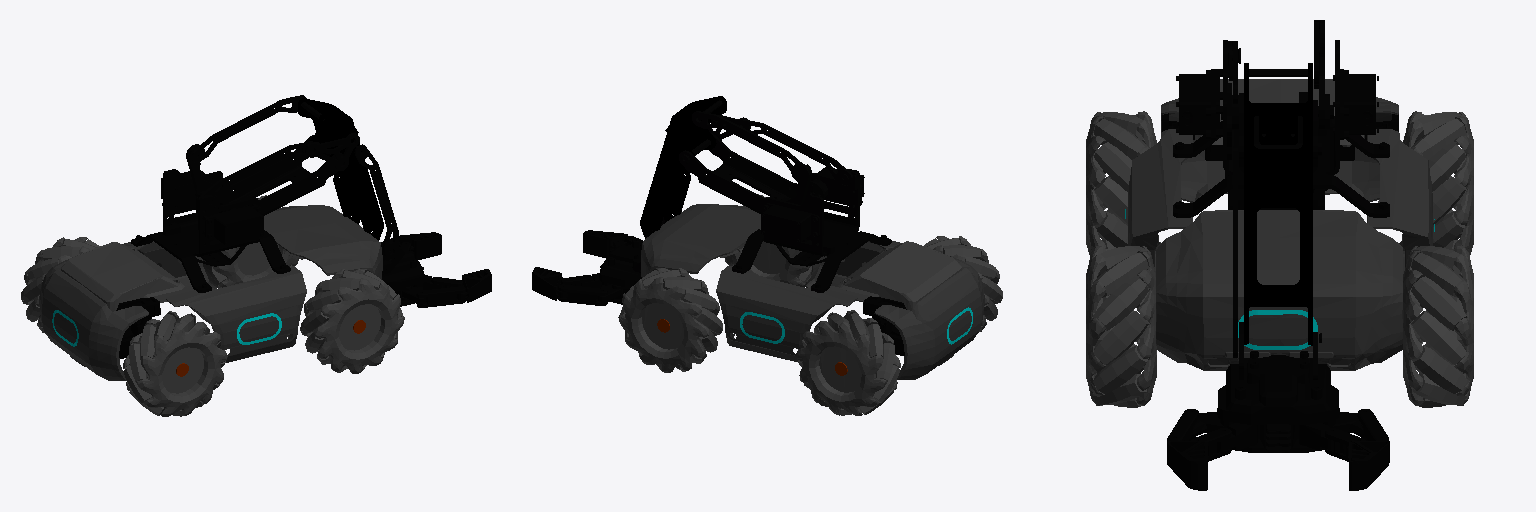
--- What the picture shows (computed from the rendered views, not written in the file) ---
Views: 3 orthographic renders of the robot side by side, from view 1: azimuth 30°, elevation 25°; view 2: azimuth 150°, elevation 25°; view 3: azimuth 270°, elevation 25°.
Robot: robomaster_ep — 39 links, 38 joints (2 revolute, 4 continuous, 32 fixed); root link base_link; default pose: every joint at zero.
Visible links, largest first — view 1: chassis_base_link, arm_base_link, rear_right_wheel_link, front_right_wheel_link, arm_2_link, arm_1_link, rear_left_wheel_link, front_left_wheel_link, rod_1_link, rod_3_link, rod_2_link, gripper_link (+5 smaller); view 2: chassis_base_link, rear_left_wheel_link, arm_base_link, front_left_wheel_link, arm_2_link, arm_1_link, rear_right_wheel_link, front_right_wheel_link, gripper_link, rod_2_link, rod_3_link, right_gripper_link_5 (+4 smaller); view 3: chassis_base_link, arm_2_link, arm_base_link, front_left_wheel_link, front_right_wheel_link, gripper_link, rear_right_wheel_link, rear_left_wheel_link, right_gripper_link_5, left_gripper_link_5, rod_1_link, arm_1_link (+9 smaller).
Link boxes in pixels (<box>): chassis_base_link: <box>39,205,382,380</box>; arm_base_link: <box>131,169,290,292</box>; rear_right_wheel_link: <box>123,311,227,416</box>; front_right_wheel_link: <box>300,269,404,373</box>; arm_2_link: <box>298,98,383,240</box>; arm_1_link: <box>207,135,343,215</box>; rear_left_wheel_link: <box>21,237,99,332</box>; front_left_wheel_link: <box>212,195,298,288</box>; rod_1_link: <box>354,144,398,258</box>; rod_3_link: <box>192,95,306,162</box>; rod_2_link: <box>200,141,314,200</box>; gripper_link: <box>382,241,424,306</box>; chassis_base_link: <box>641,204,984,379</box>; rear_left_wheel_link: <box>796,310,900,415</box>; arm_base_link: <box>732,167,891,292</box>; front_left_wheel_link: <box>618,268,722,372</box>; arm_2_link: <box>640,96,726,238</box>; arm_1_link: <box>679,133,827,213</box>; rear_right_wheel_link: <box>924,236,1002,331</box>; front_right_wheel_link: <box>725,194,811,287</box>; gripper_link: <box>599,239,641,304</box>; rod_2_link: <box>735,119,852,185</box>; rod_3_link: <box>692,111,801,170</box>; right_gripper_link_5: <box>583,230,629,258</box>; chassis_base_link: <box>1128,79,1432,370</box>; arm_2_link: <box>1244,63,1321,345</box>; arm_base_link: <box>1173,40,1389,217</box>; front_left_wheel_link: <box>1403,245,1473,407</box>; front_right_wheel_link: <box>1086,245,1156,407</box>; gripper_link: <box>1218,351,1338,452</box>; rear_right_wheel_link: <box>1086,111,1156,254</box>; rear_left_wheel_link: <box>1403,111,1473,254</box>; right_gripper_link_5: <box>1167,440,1207,490</box>; left_gripper_link_5: <box>1349,440,1389,490</box>; rod_1_link: <box>1233,146,1237,357</box>; arm_1_link: <box>1221,93,1317,172</box>.
Size in the robot's own frame: 0.4522 by 0.2451 by 0.2429 metres.
Meshes: 37 distinct files referenced, 45 mesh visuals loaded (36 Collada DAE); not drawn: 1 (reference not matched to a file when rendering).

URDF robot description (robomaster_ep):
<?xml version="1.0" ?>
<!-- =================================================================================== -->
<!-- |    This document was autogenerated by xacro from robomaster_ep.urdf.xacro       | -->
<!-- |    EDITING THIS FILE BY HAND IS NOT RECOMMENDED                                 | -->
<!-- =================================================================================== -->
<robot name="robomaster_ep" >
  <link name="base_link"/>
  <link name="chassis_base_link">
    <inertial>
      <origin rpy="0 0 0" xyz="-0.0058789 -0.0001128 0.0294307"/>
      <mass value="9.934"/>
      <inertia ixx="0.01451" ixy="0" ixz="0" iyy="0.00512" iyz="0" izz="0.01759"/>
    </inertial>
    <visual name="armor">
      <origin rpy="0 0 0" xyz="-0.0064553 -0.078141 0.0292877"/>
      <geometry>
        <mesh filename="../meshes/armor.dae" scale="1.0 1.0 1.0"/>
      </geometry>
      <material name="armor_plastic"/>
    </visual>
    <visual name="battery">
      <origin rpy="0 0 0" xyz="-0.130336 -0.0018702 0.0174177"/>
      <geometry>
        <mesh filename="../meshes/battery.dae" scale="1.0 1.0 1.0"/>
      </geometry>
      <material name="dark_plastic"/>
    </visual>
    <visual name="battery_pin_left">
      <origin rpy="0 0 0" xyz="-0.1158907 0.066115 0.0525243"/>
      <geometry>
        <mesh filename="../meshes/battery_pin_left.dae" scale="1.0 1.0 1.0"/>
      </geometry>
      <material name="dark_plastic"/>
    </visual>
    <visual name="battery_pin_right">
      <origin rpy="0 0 0" xyz="-0.1158907 -0.0658844 0.0525243"/>
      <geometry>
        <mesh filename="../meshes/battery_pin_right.dae" scale="1.0 1.0 1.0"/>
      </geometry>
      <material name="dark_plastic"/>
    </visual>
    <visual name="chassis">
      <origin rpy="0 0 0" xyz="-0.0059039 0.0004154 0.0527955"/>
      <geometry>
        <mesh filename="../meshes/chassis.dae" scale="1.0 1.0 1.0"/>
      </geometry>
      <material name="chassis"/>
    </visual>
    <visual name="controller">
      <origin rpy="0 0 0" xyz="-0.1142288 -0.0006716 0.052675"/>
      <geometry>
        <mesh filename="../meshes/controller.dae" scale="1.0 1.0 1.0"/>
      </geometry>
      <material name="dark_plastic"/>
    </visual>
    <visual name="controller_cover">
      <origin rpy="0 0 0" xyz="-0.0787757 -0.002522 0.0720827"/>
      <geometry>
        <mesh filename="../meshes/controller_cover.dae" scale="1.0 1.0 1.0"/>
      </geometry>
      <material name="cover_plastic"/>
    </visual>
    <collision name="base_collision">
      <origin rpy="0 0 0" xyz="-0.0058789 -0.0001128 0.0294307"/>
      <geometry>
        <mesh filename="../meshes/base_collision.dae" scale="1.0 1.0 1.0"/>
      </geometry>
    </collision>
  </link>
  <joint name="chassis_base_joint" type="fixed">
    <origin rpy="0 0 0" xyz="0 0 0.03465"/>
    <parent link="base_link"/>
    <child link="chassis_base_link"/>
  </joint>
  <link name="front_hit_sensor_link">
    <inertial>
      <origin rpy="0 0 0" xyz="0 0 0"/>
      <mass value="0.001"/>
      <inertia ixx="0.001" ixy="0" ixz="0" iyy="0.001" iyz="0" izz="0.001"/>
    </inertial>
    <visual name="front_hit_sensor">
      <origin rpy="0 0 0" xyz="0 0 0"/>
      <geometry>
        <mesh filename="../meshes/hit_sensor.dae" scale="1.0 1.0 1.0"/>
      </geometry>
      <material name="hit_detector"/>
    </visual>
  </link>
  <link name="front_led_link">
    <inertial>
      <origin rpy="0 0 0" xyz="0 0 0"/>
      <mass value="0.001"/>
      <inertia ixx="0.001" ixy="0" ixz="0" iyy="0.001" iyz="0" izz="0.001"/>
    </inertial>
    <visual name="front_led">
      <origin rpy="0 0 0" xyz="0 0 0"/>
      <geometry>
        <mesh filename="../meshes/led.dae" scale="1.0 1.0 1.0"/>
      </geometry>
      <material name="led_light"/>
    </visual>
  </link>
  <joint name="front_hit_sensor_joint" type="fixed">
    <origin rpy="0 0 0" xyz="0.1569985 -0.0004276 0.0432862"/>
    <parent link="chassis_base_link"/>
    <child link="front_hit_sensor_link"/>
  </joint>
  <joint name="front_led_joint" type="fixed">
    <origin rpy="0 0 0" xyz="0.0087428 -0.0012841 3.75e-05"/>
    <parent link="front_hit_sensor_link"/>
    <child link="front_led_link"/>
  </joint>
  <link name="left_hit_sensor_link">
    <inertial>
      <origin rpy="0 0 0" xyz="0 0 0"/>
      <mass value="0.001"/>
      <inertia ixx="0.001" ixy="0" ixz="0" iyy="0.001" iyz="0" izz="0.001"/>
    </inertial>
    <visual name="left_hit_sensor">
      <origin rpy="0 0 0" xyz="0 0 0"/>
      <geometry>
        <mesh filename="../meshes/hit_sensor.dae" scale="1.0 1.0 1.0"/>
      </geometry>
      <material name="hit_detector"/>
    </visual>
  </link>
  <link name="left_led_link">
    <inertial>
      <origin rpy="0 0 0" xyz="0 0 0"/>
      <mass value="0.001"/>
      <inertia ixx="0.001" ixy="0" ixz="0" iyy="0.001" iyz="0" izz="0.001"/>
    </inertial>
    <visual name="left_led">
      <origin rpy="0 0 0" xyz="0 0 0"/>
      <geometry>
        <mesh filename="../meshes/led.dae" scale="1.0 1.0 1.0"/>
      </geometry>
      <material name="led_light"/>
    </visual>
  </link>
  <joint name="left_hit_sensor_joint" type="fixed">
    <origin rpy="0 0 1.5707963267948966" xyz="-0.0024413 0.0886932 0.0298341"/>
    <parent link="chassis_base_link"/>
    <child link="left_hit_sensor_link"/>
  </joint>
  <joint name="left_led_joint" type="fixed">
    <origin rpy="0 0 0" xyz="0.0087428 -0.0012841 3.75e-05"/>
    <parent link="left_hit_sensor_link"/>
    <child link="left_led_link"/>
  </joint>
  <link name="rear_hit_sensor_link">
    <inertial>
      <origin rpy="0 0 0" xyz="0 0 0"/>
      <mass value="0.001"/>
      <inertia ixx="0.001" ixy="0" ixz="0" iyy="0.001" iyz="0" izz="0.001"/>
    </inertial>
    <visual name="rear_hit_sensor">
      <origin rpy="0 0 0" xyz="0 0 0"/>
      <geometry>
        <mesh filename="../meshes/hit_sensor.dae" scale="1.0 1.0 1.0"/>
      </geometry>
      <material name="hit_detector"/>
    </visual>
  </link>
  <link name="rear_led_link">
    <inertial>
      <origin rpy="0 0 0" xyz="0 0 0"/>
      <mass value="0.001"/>
      <inertia ixx="0.001" ixy="0" ixz="0" iyy="0.001" iyz="0" izz="0.001"/>
    </inertial>
    <visual name="rear_led">
      <origin rpy="0 0 0" xyz="0 0 0"/>
      <geometry>
        <mesh filename="../meshes/led.dae" scale="1.0 1.0 1.0"/>
      </geometry>
      <material name="led_light"/>
    </visual>
  </link>
  <joint name="rear_hit_sensor_joint" type="fixed">
    <origin rpy="0 0 3.141592653589793" xyz="-0.1581827 -0.0027864 0.0303668"/>
    <parent link="chassis_base_link"/>
    <child link="rear_hit_sensor_link"/>
  </joint>
  <joint name="rear_led_joint" type="fixed">
    <origin rpy="0 0 0" xyz="0.0087428 -0.0012841 3.75e-05"/>
    <parent link="rear_hit_sensor_link"/>
    <child link="rear_led_link"/>
  </joint>
  <link name="right_hit_sensor_link">
    <inertial>
      <origin rpy="0 0 0" xyz="0 0 0"/>
      <mass value="0.001"/>
      <inertia ixx="0.001" ixy="0" ixz="0" iyy="0.001" iyz="0" izz="0.001"/>
    </inertial>
    <visual name="right_hit_sensor">
      <origin rpy="0 0 0" xyz="0 0 0"/>
      <geometry>
        <mesh filename="../meshes/hit_sensor.dae" scale="1.0 1.0 1.0"/>
      </geometry>
      <material name="hit_detector"/>
    </visual>
  </link>
  <link name="right_led_link">
    <inertial>
      <origin rpy="0 0 0" xyz="0 0 0"/>
      <mass value="0.001"/>
      <inertia ixx="0.001" ixy="0" ixz="0" iyy="0.001" iyz="0" izz="0.001"/>
    </inertial>
    <visual name="right_led">
      <origin rpy="0 0 0" xyz="0 0 0"/>
      <geometry>
        <mesh filename="../meshes/led.dae" scale="1.0 1.0 1.0"/>
      </geometry>
      <material name="led_light"/>
    </visual>
  </link>
  <joint name="right_hit_sensor_joint" type="fixed">
    <origin rpy="0 0 -1.5707963267948966" xyz="-0.0024413 -0.0886932 0.0298341"/>
    <parent link="chassis_base_link"/>
    <child link="right_hit_sensor_link"/>
  </joint>
  <joint name="right_led_joint" type="fixed">
    <origin rpy="0 0 0" xyz="0.0087428 -0.0012841 3.75e-05"/>
    <parent link="right_hit_sensor_link"/>
    <child link="right_led_link"/>
  </joint>
  <link name="front_left_wheel_link">
    <inertial>
      <origin rpy="0 0 0" xyz="-0.0002104 5.31e-05 -0.0004148"/>
      <mass value="0.162"/>
      <inertia ixx="0.0002" ixy="0" ixz="0" iyy="0.00012" iyz="0" izz="0.00012"/>
    </inertial>
    <visual name="front_left_wheel_bolt">
      <origin rpy="1.5707963267948966 0 0" xyz="0 0.0145 0"/>
      <geometry>
        <cylinder length="0.001" radius="0.007"/>
      </geometry>
      <material name="bolt">
        <color rgba="0.45 0.15 0.0 1.0"/>
      </material>
    </visual>
    <visual name="front_left_wheel">
      <origin rpy="0 0 0" xyz="0 0 0"/>
      <geometry>
        <mesh filename="../meshes/wheel.dae" scale="1.0 1 1.0"/>
      </geometry>
      <material name="wheel_plastic"/>
    </visual>
    <collision name="front_left_wheel">
      <origin rpy="1.5707963267948966 0 0" xyz="0 0 0"/>
      <geometry>
        <cylinder length="0.042" radius="0.05"/>
      </geometry>
      <material name="collision">
        <color rgba="0.8 0.0 0.0 1.0"/>
      </material>
    </collision>
  </link>
  <joint name="front_left_wheel_joint" type="continuous">
    <origin rpy="0 0 0" xyz="0.1 0.1 0.01535"/>
    <parent link="chassis_base_link"/>
    <child link="front_left_wheel_link"/>
    <axis xyz="0 1.0 0"/>
    <limit effort="30" velocity="1.0"/>
  </joint>
  <link name="front_right_wheel_link">
    <inertial>
      <origin rpy="0 0 0" xyz="-0.0002104 5.31e-05 -0.0004148"/>
      <mass value="0.162"/>
      <inertia ixx="0.0002" ixy="0" ixz="0" iyy="0.00012" iyz="0" izz="0.00012"/>
    </inertial>
    <visual name="front_right_wheel_bolt">
      <origin rpy="1.5707963267948966 0 0" xyz="0 -0.0145 0"/>
      <geometry>
        <cylinder length="0.001" radius="0.007"/>
      </geometry>
      <material name="bolt">
        <color rgba="0.45 0.15 0.0 1.0"/>
      </material>
    </visual>
    <visual name="front_right_wheel">
      <origin rpy="0 0 0" xyz="0 0 0"/>
      <geometry>
        <mesh filename="../meshes/wheel.dae" scale="1.0 -1 1.0"/>
      </geometry>
      <material name="wheel_plastic"/>
    </visual>
    <collision name="front_right_wheel">
      <origin rpy="1.5707963267948966 0 0" xyz="0 0 0"/>
      <geometry>
        <cylinder length="0.042" radius="0.05"/>
      </geometry>
      <material name="collision">
        <color rgba="0.8 0.0 0.0 1.0"/>
      </material>
    </collision>
  </link>
  <joint name="front_right_wheel_joint" type="continuous">
    <origin rpy="0 0 0" xyz="0.1 -0.1 0.01535"/>
    <parent link="chassis_base_link"/>
    <child link="front_right_wheel_link"/>
    <axis xyz="0 1.0 0"/>
    <limit effort="30" velocity="1.0"/>
  </joint>
  <link name="rear_left_wheel_link">
    <inertial>
      <origin rpy="0 0 0" xyz="-0.0002104 5.31e-05 -0.0004148"/>
      <mass value="0.162"/>
      <inertia ixx="0.0002" ixy="0" ixz="0" iyy="0.00012" iyz="0" izz="0.00012"/>
    </inertial>
    <visual name="rear_left_wheel_bolt">
      <origin rpy="1.5707963267948966 0 0" xyz="0 0.0145 0"/>
      <geometry>
        <cylinder length="0.001" radius="0.007"/>
      </geometry>
      <material name="bolt">
        <color rgba="0.45 0.15 0.0 1.0"/>
      </material>
    </visual>
    <visual name="rear_left_wheel">
      <origin rpy="0 0 0" xyz="0 0 0"/>
      <geometry>
        <mesh filename="../meshes/wheel.dae" scale="1.0 -1 1.0"/>
      </geometry>
      <material name="wheel_plastic"/>
    </visual>
    <collision name="rear_left_wheel">
      <origin rpy="1.5707963267948966 0 0" xyz="0 0 0"/>
      <geometry>
        <cylinder length="0.042" radius="0.05"/>
      </geometry>
      <material name="collision">
        <color rgba="0.8 0.0 0.0 1.0"/>
      </material>
    </collision>
  </link>
  <joint name="rear_left_wheel_joint" type="continuous">
    <origin rpy="0 0 0" xyz="-0.1 0.1 0.01535"/>
    <parent link="chassis_base_link"/>
    <child link="rear_left_wheel_link"/>
    <axis xyz="0 1.0 0"/>
    <limit effort="30" velocity="1.0"/>
  </joint>
  <link name="rear_right_wheel_link">
    <inertial>
      <origin rpy="0 0 0" xyz="-0.0002104 5.31e-05 -0.0004148"/>
      <mass value="0.162"/>
      <inertia ixx="0.0002" ixy="0" ixz="0" iyy="0.00012" iyz="0" izz="0.00012"/>
    </inertial>
    <visual name="rear_right_wheel_bolt">
      <origin rpy="1.5707963267948966 0 0" xyz="0 -0.0145 0"/>
      <geometry>
        <cylinder length="0.001" radius="0.007"/>
      </geometry>
      <material name="bolt">
        <color rgba="0.45 0.15 0.0 1.0"/>
      </material>
    </visual>
    <visual name="rear_right_wheel">
      <origin rpy="0 0 0" xyz="0 0 0"/>
      <geometry>
        <mesh filename="../meshes/wheel.dae" scale="1.0 1 1.0"/>
      </geometry>
      <material name="wheel_plastic"/>
    </visual>
    <collision name="rear_right_wheel">
      <origin rpy="1.5707963267948966 0 0" xyz="0 0 0"/>
      <geometry>
        <cylinder length="0.042" radius="0.05"/>
      </geometry>
      <material name="collision">
        <color rgba="0.8 0.0 0.0 1.0"/>
      </material>
    </collision>
  </link>
  <joint name="rear_right_wheel_joint" type="continuous">
    <origin rpy="0 0 0" xyz="-0.1 -0.1 0.01535"/>
    <parent link="chassis_base_link"/>
    <child link="rear_right_wheel_link"/>
    <axis xyz="0 1.0 0"/>
    <limit effort="30" velocity="1.0"/>
  </joint>
  <material name="armor_plastic">
    <color rgba="0.2277128 0.2277128 0.2277128 0.8"/>
  </material>
  <material name="chassis">
    <color rgba="0.0981132 0.0981132 0.0981132 1.0"/>
  </material>
  <material name="cover_plastic">
    <color rgba="0.2548322 0.2548322 0.2548322 0.30000000000000004"/>
  </material>
  <material name="dark_plastic">
    <color rgba="0.0281746 0.0281746 0.0281746 1.0"/>
  </material>
  <material name="metal">
    <color rgba="0.0281746 0.028 0.0281746 1.0"/>
  </material>
  <material name="hit_detector">
    <color rgba="0.1697846 0.1697846 0.1697846 1.0"/>
  </material>
  <material name="led_light">
    <color rgba="0 0.7773585 0.7773583 1.0"/>
  </material>
  <material name="wheel_plastic">
    <color rgba="0.2739087 0.2739087 0.2739087 1.0"/>
  </material>
  <material name="EP_up.001">
    <color rgba="0.0284811 0.0284811 0.0284811 1.0"/>
  </material>
  <link name="arm_1_link">
    <inertial>
      <origin rpy="0 0 0" xyz="-0.0005586 0.023592 0.0011729"/>
      <mass value="0.056"/>
      <inertia ixx="0.0156113" ixy="2.43e-05" ixz="1.8e-06" iyy="0.0161553" iyz="-0.0023011" izz="0.0018092"/>
    </inertial>
    <visual name="arm_1">
      <origin rpy="0 0 0" xyz="0.0073108 0.0184816 0.0437162"/>
      <geometry>
        <mesh filename="../meshes/arm_1.dae" scale="1.0 1.0 1.0"/>
      </geometry>
      <material name="metal"/>
    </visual>
    <visual name="arm_1_cylinder">
      <origin rpy="0 0 0" xyz="-0.0239031 0.0255713 -0.0368083"/>
      <geometry>
        <mesh filename="../meshes/arm_1_cylinder.dae" scale="1.0 1.0 1.0"/>
      </geometry>
      <material name="metal"/>
    </visual>
    <collision name="arm_1_collision">
      <origin rpy="0 0 0" xyz="0.0065116 0.0213649 0.0639448"/>
      <geometry>
        <mesh filename="../meshes/arm_1_collision.dae" scale="1.0 1.0 1.0"/>
      </geometry>
    </collision>
  </link>
  <!-- <link name="arm_2_dummy">
    </link> -->
  <link name="arm_2_link">
    <inertial>
      <origin rpy="0 0 0" xyz="0.0222614 -0.0202749 -0.008504"/>
      <mass value="0.08"/>
      <inertia ixx="0.0118624" ixy="1e-06" ixz="-3e-07" iyy="0.0041691" iyz="0.0031106" izz="0.0101456"/>
    </inertial>
    <visual name="arm_2">
      <origin rpy="0 0 0" xyz="0.0256122 -0.020134 -0.001308"/>
      <geometry>
        <mesh filename="../meshes/arm_2.dae" scale="1.0 1.0 1.0"/>
      </geometry>
      <material name="Test">
        <color rgba="0.0 0.0 0.0 1.0"/>
      </material>
    </visual>
    <visual name="arm_2_bar_1">
      <origin rpy="0 0 0" xyz="7.62e-05 0.0010863 -0.0002509"/>
      <geometry>
        <mesh filename="../meshes/arm_2_bar_1.dae" scale="1.0 1.0 1.0"/>
      </geometry>
      <material name="metal"/>
    </visual>
    <visual name="arm_2_bar_2">
      <origin rpy="0 0 0" xyz="-0.0423232 -0.0099192 0.0221971"/>
      <geometry>
        <mesh filename="../meshes/arm_2_bar_2.dae" scale="1.0 1.0 1.0"/>
      </geometry>
      <material name="metal"/>
    </visual>
    <collision name="arm_2_collision">
      <origin rpy="0 0 0" xyz="0.0222614 -0.0202749 -0.008504"/>
      <geometry>
        <mesh filename="../meshes/arm_2_collision.dae" scale="1.0 1.0 1.0"/>
      </geometry>
    </collision>
  </link>
  <link name="arm_base_link">
    <inertial>
      <origin rpy="0 0 0" xyz="0 0 0"/>
      <mass value="0.3"/>
      <inertia ixx="0.0023" ixy="0" ixz="0" iyy="0.0025" iyz="0" izz="0.00072"/>
    </inertial>
    <visual name="arm_base">
      <origin rpy="0 0 0" xyz="-0.0008983 -0.0029745 -2.44e-05"/>
      <geometry>
        <mesh filename="../meshes/arm_base.dae" scale="1.0 1.0 1.0"/>
      </geometry>
      <material name="metal"/>
    </visual>
    <visual name="left_servo">
      <origin rpy="0 0 0" xyz="-0.013507 0 -0.0060673"/>
      <geometry>
        <mesh filename="../meshes/left_servo.dae" scale="1.0 1.0 1.0"/>
      </geometry>
      <material name="metal"/>
    </visual>
    <visual name="right_servo">
      <origin rpy="0 0 0" xyz="-0.013507 0 -0.0060673"/>
      <geometry>
        <mesh filename="../meshes/right_servo.dae" scale="1.0 1.0 1.0"/>
      </geometry>
      <material name="metal"/>
    </visual>
    <collision name="arm_base_collision">
      <origin rpy="0 0 0" xyz="-0.002098 -0.0004909 0.0073523"/>
      <geometry>
        <mesh filename="../meshes/arm_base_collision.dae" scale="1.0 1.0 1.0"/>
      </geometry>
    </collision>
  </link>
  <link name="end_point_link">
    </link>
  <link name="endpoint_bracket_link">
    <inertial>
      <origin rpy="0 0 0" xyz="0.0116468 -0.0288044 0.0041342"/>
      <mass value="0.028"/>
      <inertia ixx="0.0004413" ixy="0.0001147" ixz="2.69e-05" iyy="0.0008301" iyz="-2.89e-05" izz="0.0008237"/>
    </inertial>
    <visual name="endpoint_bracket">
      <origin rpy="0 0 0" xyz="0.0071657 -0.0245846 0.0008407"/>
      <geometry>
        <mesh filename="../meshes/endpoint_bracket.dae" scale="1.0 1.0 1.0"/>
      </geometry>
      <material name="metal"/>
    </visual>
    <collision name="endpoint_bracket_collision">
      <origin rpy="0 0 0" xyz="0.0116468 -0.0288044 0.0041342"/>
      <geometry>
        <mesh filename="../meshes/endpoint_bracket_collision.dae" scale="1.0 1.0 1.0"/>
      </geometry>
    </collision>
  </link>
  <!-- <link name="rod_1_dummy">
    </link> -->
  <link name="rod_1_link">
    <inertial>
      <origin rpy="0 0 0" xyz="-0.0477809 0 0.0272644"/>
      <mass value="0.012"/>
      <inertia ixx="0.0016031" ixy="0" ixz="0" iyy="0.0004085" iyz="0.000657" izz="0.0011959"/>
    </inertial>
    <visual name="rod_1">
      <origin rpy="0 0 0" xyz="-0.0479737 0 0.0301898"/>
      <geometry>
        <mesh filename="../meshes/rod_1.dae" scale="1.0 1.0 1.0"/>
      </geometry>
      <material name="metal"/>
    </visual>
    <collision name="rod_1_collision">
      <origin rpy="0 0 0" xyz="-0.0477809 0 0.0272644"/>
      <geometry>
        <mesh filename="../meshes/rod_1_collision.dae" scale="1.0 1.0 1.0"/>
      </geometry>
    </collision>
  </link>
  <!-- <link name="rod_2_dummy">
      <inertial>
        <origin xyz="0 0 0" rpy="0 0 0"/>
        <mass value="0.001"/>
        <inertia ixx="0.001" ixy="0" ixz="0" iyy="0.001" iyz="0" izz="0.001"/>
      </inertial>
    </link> -->
  <link name="rod_2_link">
    <inertial>
      <origin rpy="0 0 0" xyz="0.0011528 0 0.0549123"/>
      <mass value="0.012"/>
      <inertia ixx="0.0016147" ixy="0" ixz="0" iyy="0.0015792" iyz="-3.39e-05" izz="3.69e-05"/>
    </inertial>
    <visual name="rod_2">
      <origin rpy="0 0 0" xyz="-0.0012722 0 0.0561361"/>
      <geometry>
        <mesh filename="../meshes/rod_2.dae" scale="1.0000004 1.0 0.9999998"/>
      </geometry>
      <material name="metal"/>
    </visual>
    <collision name="rod_2_collision">
      <origin rpy="0 0 0" xyz="0.0011528 0 0.0549123"/>
      <geometry>
        <mesh filename="../meshes/rod_2_collision.dae" scale="1.0000004 1.0 0.9999998"/>
      </geometry>
    </collision>
  </link>
  <!-- <link name="rod_3_dummy">
      <inertial>
        <origin xyz="0 0 0" rpy="0 0 0"/>
        <mass value="0.001"/>
        <inertia ixx="0.001" ixy="0" ixz="0" iyy="0.001" iyz="0" izz="0.001"/>
      </inertial>
    </link> -->
  <link name="rod_3_link">
    <inertial>
      <origin rpy="0 0 0" xyz="-0.0003574 9.5e-06 0.0001674"/>
      <mass value="0.012"/>
      <inertia ixx="0.0059201" ixy="0" ixz="0" iyy="0.005887" iyz="1.87e-05" izz="3.45e-05"/>
    </inertial>
    <visual name="rod_3">
      <origin rpy="0 0 0" xyz="-0.0017304 0 0.0633558"/>
      <geometry>
        <mesh filename="../meshes/rod_3.dae" scale="1.0 1.0 1.0"/>
      </geometry>
      <material name="metal"/>
    </visual>
    <collision name="rod_3_collision">
      <origin rpy="0 0 0" xyz="0.0004696 9.5e-06 0.0561803"/>
      <geometry>
        <mesh filename="../meshes/rod_3_collision.dae" scale="1.0 1.0 1.0"/>
      </geometry>
    </collision>
  </link>
  <link name="rod_link">
    <inertial>
      <origin rpy="0 0 0" xyz="-8.11e-05 0.0023793 8.58e-05"/>
      <mass value="0.011"/>
      <inertia ixx="0.0009103" ixy="0" ixz="0" iyy="0.0002029" iyz="0.0003431" izz="0.0007136"/>
    </inertial>
    <visual name="rod">
      <origin rpy="0 0 0" xyz="-0.0261857 0.0022566 0.0121229"/>
      <geometry>
        <mesh filename="../meshes/rod.dae" scale="1.0 1.0 1.0"/>
      </geometry>
      <material name="metal"/>
    </visual>
    <collision name="rod_collision">
      <origin rpy="0 0 0" xyz="-0.02432 0.0022871 0.0136485"/>
      <geometry>
        <mesh filename="../meshes/rod_collision.dae" scale="1.0 1.0 1.0"/>
      </geometry>
    </collision>
  </link>
  <!-- <link name="triangle_1_dummy">
      <inertial>
        <origin xyz="0 0 0" rpy="0 0 0"/>
        <mass value="0.001"/>
        <inertia ixx="0.001" ixy="0" ixz="0" iyy="0.001" iyz="0" izz="0.001"/>
      </inertial>
    </link> -->
  <!-- <link name="triangle_2_dummy">
    </link> -->
  <link name="triangle_link">
    <inertial>
      <origin rpy="0 0 0" xyz="0.1417841 0.0321051 -0.1257179"/>
      <mass value="0.009"/>
      <inertia ixx="0.0205056" ixy="0.0021202" ixz="-0.0023248" iyy="0.0097562" iyz="0.0101162" izz="0.0117256"/>
    </inertial>
    <visual name="triangle">
      <origin rpy="0 0 0" xyz="-0.0095953 0 0.0131247"/>
      <geometry>
        <mesh filename="../meshes/triangle.dae" scale="1.0 1.0 1.0"/>
      </geometry>
      <material name="metal"/>
    </visual>
    <collision name="triangle_collision">
      <origin rpy="0 0 0" xyz="-0.0091994 0 0.012377"/>
      <geometry>
        <mesh filename="../meshes/triangle_collision.dae" scale="1.0 1.0 1.0"/>
      </geometry>
    </collision>
  </link>
  <joint name="arm_1_joint" type="fixed">
    <origin rpy="0 1.3 0" xyz="0.0103961 -0.0255713 0.030741"/>
    <parent link="arm_base_link"/>
    <child link="arm_1_link"/>
    <axis xyz="0.0 1.0 0"/>
    <limit effort="1" lower="-0.274" upper="1.384" velocity="1"/>
  </joint>
  <!-- <joint name="arm_2_dummy" type="floating">
      <origin xyz="-0.0419304 0.0028425 0.0218356" rpy="0 0 0"/>
      <parent link="arm_2_link"/>
      <child link="arm_2_dummy"/>
    </joint> -->
  <joint name="arm_2_joint" type="fixed">
    <origin rpy="0 -0.5 0" xyz="0.0018704 0.0438659 0.1210238"/>
    <parent link="arm_1_link"/>
    <child link="arm_2_link"/>
    <axis xyz="0.0 1.0 0"/>
    <limit effort="1" velocity="1"/>
    <mimic joint="rod_3_joint" multiplier="-1.0" offset="0.0"/>
  </joint>
  <!-- <joint name="arm_base_attachment_joint" type="fixed">
      <origin xyz="0 0.0010384 0.0906477" rpy="0 0 0"/>
      <parent link="base_link"/>
      <child link="arm_base_attachment_link"/>
    </joint> -->
  <joint name="arm_base_joint" type="fixed">
    <origin rpy="0 0 0" xyz="0 0.0010384 0.0906477"/>
    <parent link="chassis_base_link"/>
    <child link="arm_base_link"/>
  </joint>
  <!-- <joint name="attachement_link" type="floating">
      <origin xyz="0 0 0" rpy="0 0 0"/>
      <parent link="arm_base_link"/>
      <child link="attachement_link"/>
    </joint> -->
  <joint name="end_point_joint" type="fixed">
    <origin rpy="0 0 0" xyz="0.0110125 -0.0270264 -0.0103816"/>
    <parent link="endpoint_bracket_link"/>
    <child link="end_point_link"/>
  </joint>
  <joint name="endpoint_bracket_joint" type="fixed">
    <origin rpy="0 0 0" xyz="0.1058557 0.006752 -0.0561093"/>
    <parent link="arm_2_link"/>
    <child link="endpoint_bracket_link"/>
    <axis xyz="0.0 1.0 0"/>
    <mimic joint="rod_joint" multiplier="-1.0" offset="0.0"/>
    <!-- <limit effort="0" velocity="0"/> -->
  </joint>
  <!-- <joint name="rod_1_dummy" type="floating">
      <origin xyz="-0.1048751 0 0.0582511" rpy="0 0 0"/>
      <parent link="rod_1_link"/>
      <child link="rod_1_dummy"/>
    </joint> -->
  <joint name="rod_1_joint" type="fixed">
    <origin rpy="0 -0.021293 0" xyz="0.0134583 -0.0540971 0.0213068"/>
    <parent link="endpoint_bracket_link"/>
    <child link="rod_1_link"/>
    <axis xyz="0.0 1.0 0"/>
    <mimic joint="rod_joint" multiplier="1.0" offset="0.0"/>
  </joint>
  <!-- <joint name="rod_2_dummy" type="floating">
      <origin xyz="0.0036225 0 0.1198535" rpy="0 0 0"/>
      <parent link="rod_2_link"/>
      <child link="rod_2_dummy"/>
    </joint> -->
  <joint name="rod_2_joint" type="fixed">
    <origin rpy="0 1.3 0" xyz="-0.0224276 -0.0290701 0.0554782"/>
    <parent link="arm_base_link"/>
    <child link="rod_2_link"/>
    <axis xyz="0.0 1.0 0"/>
    <mimic joint="arm_1_joint" multiplier="1.0" offset="0.0"/>
    <!-- <limit effort="0" velocity="0"/> -->
  </joint>
  <!-- <joint name="rod_3_dummy" type="floating">
      <origin xyz="0.0029281 -0.0007404 0.1193638" rpy="0 0 0"/>
      <parent link="rod_3_link"/>
      <child link="rod_3_dummy"/>
    </joint> -->
  <joint name="rod_3_joint" type="fixed">
    <origin rpy="0 0.5 0" xyz="-0.042397 0.0004533 0.0223131"/>
    <parent link="rod_link"/>
    <child link="rod_3_link"/>
    <axis xyz="0.0 1.0 0"/>
    <limit effort="1" lower="-0.34732" upper="1.21475" velocity="1"/>
  </joint>
  <joint name="rod_joint" type="fixed">
    <origin rpy="0 0.8 0" xyz="0.009805 0.0214241 0.0319234"/>
    <parent link="arm_base_link"/>
    <child link="rod_link"/>
    <axis xyz="0.0 1.0 0"/>
    <limit effort="1" lower="-0.79936" upper="1.73137" velocity="1"/>
  </joint>
  <joint name="triangle_joint" type="fixed">
    <origin rpy="0 -1.1 0" xyz="0.0020224 -0.007103 0.1212334"/>
    <parent link="arm_1_link"/>
    <child link="triangle_link"/>
    <axis xyz="0.0 1.0 0"/>
    <mimic joint="arm_1_joint" multiplier="-1.0" offset="0.0"/>
  </joint>

  <link name="left_gripper_link_1">
    <inertial>
      <origin rpy="0 0 0" xyz="0 0 0"/>
      <mass value="0.001"/>
      <inertia ixx="0.001" ixy="0" ixz="0" iyy="0.001" iyz="0" izz="0.001"/>
    </inertial>
    <visual name="left_gripper_1">
      <origin rpy="0 0 0" xyz="-1.52e-05 8.12e-05 -2.25e-05"/>
      <geometry>
        <mesh filename="../meshes/gripper_left_1.dae" scale="1.0 1.0 1.0"/>
      </geometry>
      <material name="EP_up.001"/>
    </visual>
  </link>
  <link name="left_gripper_link_2">
    <inertial>
      <origin rpy="0 0 0" xyz="0 0 0"/>
      <mass value="0.001"/>
      <inertia ixx="0.001" ixy="0" ixz="0" iyy="0.001" iyz="0" izz="0.001"/>
    </inertial>
    <visual name="left_gripper_2">
      <origin rpy="0 0 0" xyz="0.0135565 -0.0033557 -2.25e-05"/>
      <geometry>
        <mesh filename="../meshes/gripper_left_2.dae" scale="1.0 1.0 1.0"/>
      </geometry>
      <material name="EP_up.001"/>
    </visual>
    <collision name="left_gripper_2_collision">
      <origin rpy="0 0 0" xyz="0.0136108 -0.003318 -0.0296613"/>
      <geometry>
        <mesh filename="../meshes/gripper_left_2_collision.dae" scale="1.0 1.0 1.0"/>
      </geometry>
    </collision>
  </link>

  <link name="left_gripper_link_4">
    <inertial>
      <origin rpy="0 0 0" xyz="0 0 0"/>
      <mass value="0.001"/>
      <inertia ixx="0.001" ixy="0" ixz="0" iyy="0.001" iyz="0" izz="0.001"/>
    </inertial>
    <visual name="left_gripper_4">
      <origin rpy="0 0 0" xyz="-4.74e-05 0.0001737 -1.67e-05"/>
      <geometry>
        <mesh filename="../meshes/gripper_left_4.dae" scale="1.0 1.0 1.0"/>
      </geometry>
      <material name="EP_up.001"/>
    </visual>
    <collision name="left_gripper_4_collision">
      <origin rpy="0 0 0" xyz="-7.56e-05 -2.97e-05 -0.0296554"/>
      <geometry>
        <mesh filename="../meshes/gripper_left_4_collision.dae" scale="1.0 1.0 1.0"/>
      </geometry>
    </collision>
  </link>
  <link name="left_gripper_link_5">
    <inertial>
      <origin rpy="0 0 0" xyz="0 0 0"/>
      <mass value="0.001"/>
      <inertia ixx="0.001" ixy="0" ixz="0" iyy="0.001" iyz="0" izz="0.001"/>
    </inertial>
    <visual name="left_gripper_5">
      <origin rpy="0 0 0" xyz="-7.26e-05 -1.8e-06 -1.83e-05"/>
      <geometry>
        <mesh filename="../meshes/gripper_left_5.dae" scale="1.0 1.0 1.0"/>
      </geometry>
      <material name="EP_up.001"/>
    </visual>
    <collision name="left_gripper_5_collision">
      <origin rpy="0 0 0" xyz="-7.26e-05 -1.8e-06 -1.83e-05"/>
      <geometry>
        <mesh filename="../meshes/gripper_left_5_collision.dae" scale="1.0 1.0 1.0"/>
      </geometry>
    </collision>
  </link>
  <link name="left_gripper_link_6">
    <inertial>
      <origin rpy="0 0 0" xyz="0 0 0"/>
      <mass value="0.001"/>
      <inertia ixx="0.001" ixy="0" ixz="0" iyy="0.001" iyz="0" izz="0.001"/>
    </inertial>
    <visual name="left_gripper_6">
      <origin rpy="0 0 0" xyz="-0.0149194 -0.0168522 -1.83e-05"/>
      <geometry>
        <mesh filename="../meshes/gripper_left_6.dae" scale="1.0 1.0 1.0"/>
      </geometry>
      <material name="EP_up.001"/>
    </visual>
    <collision name="left_gripper_6_collision">
      <origin rpy="0 0 0" xyz="-0.0149892 -0.0167532 -0.0001821"/>
      <geometry>
        <mesh filename="../meshes/gripper_left_6_collision.dae" scale="1.0 1.0 1.0"/>
      </geometry>
    </collision>
  </link>
  <link name="left_gripper_link_7">
    <inertial>
      <origin rpy="0 0 0" xyz="0 0 0"/>
      <mass value="0.001"/>
      <inertia ixx="0.001" ixy="0" ixz="0" iyy="0.001" iyz="0" izz="0.001"/>
    </inertial>
    <visual name="left_gripper_7">
      <origin rpy="0 0 0" xyz="-0.0153264 -0.0166317 -1.83e-05"/>
      <geometry>
        <mesh filename="../meshes/gripper_left_7.dae" scale="1.0 1.0 1.0"/>
      </geometry>
      <material name="EP_up.001"/>
    </visual>
    <collision name="left_gripper_collision">
      <origin rpy="0 0 0" xyz="-0.0149126 -0.0167727 -0.0296388"/>
      <geometry>
        <mesh filename="../meshes/gripper_left_collision.dae" scale="1.0 1.0 1.0"/>
      </geometry>
    </collision>
  </link>
  <link name="gripper_link">
    <inertial>
      <origin rpy="0 0 0" xyz="0.0326578 -9.78e-05 -0.0327003"/>
      <mass value="0.15"/>
      <inertia ixx="0.0001376" ixy="7.89e-05" ixz="1.5e-06" iyy="0.0002582" iyz="2.9e-06" izz="0.0002497"/>
    </inertial>
    <visual name="gripper_base">
      <origin rpy="0 0 0" xyz="0 0 0"/>
      <geometry>
        <mesh filename="../meshes/gripper_base.dae" scale="1.0 1.0 1.0"/>
      </geometry>
      <material name="EP_up.001"/>
    </visual>
    <collision name="gripper_base_collision">
      <origin rpy="0 0 0" xyz="0.0003688 -9.78e-05 -0.0112797"/>
      <geometry>
        <mesh filename="../meshes/gripper_base_collision.dae" scale="1.0 1.0 1.0"/>
      </geometry>
    </collision>
  </link>
  <link name="gripper_m_link">
    <inertial>
      <origin rpy="0 0 0" xyz="0.0326578 -9.78e-05 -0.0327003"/>
      <mass value="0.15"/>
      <inertia ixx="0.0001376" ixy="7.89e-05" ixz="1.5e-06" iyy="0.0002582" iyz="2.9e-06" izz="0.0002497"/>
    </inertial>
  </link>
  <link name="gripper_t_link">

      </link>
  <joint name="gripper_m_joint" type="fixed">
    <limit effort="10000" lower="-0.023" upper="0.001" velocity="1"/>
    <origin rpy="0 0 0" xyz="0 0 0"/>
    <parent link="gripper_link"/>
    <child link="gripper_m_link"/>
    <axis xyz="-1 0 0"/>
  </joint>
  <!-- <link name="left_gripper_8_link_dummy">
          <inertial>
            <origin xyz="0 0 0" rpy="0 0 0"/>
            <mass value="0.001"/>
            <inertia ixx="0.001" ixy="0" ixz="0" iyy="0.001" iyz="0" izz="0.001"/>
          </inertial>
        </link> -->
  <link name="right_gripper_link_1">
    <inertial>
      <origin rpy="0 0 0" xyz="0 0 0"/>
      <mass value="0.001"/>
      <inertia ixx="0.001" ixy="0" ixz="0" iyy="0.001" iyz="0" izz="0.001"/>
    </inertial>
    <visual name="right_gripper_1">
      <origin rpy="0 0 0" xyz="-1.52e-05 -8.12e-05 -2.25e-05"/>
      <geometry>
        <mesh filename="../meshes/right_gripper_1.dae" scale="1.0 1.0 1.0"/>
      </geometry>
      <material name="EP_up.001"/>
    </visual>
  </link>
  <link name="right_gripper_link_2">
    <inertial>
      <origin rpy="0 0 0" xyz="0 0 0"/>
      <mass value="0.001"/>
      <inertia ixx="0.001" ixy="0" ixz="0" iyy="0.001" iyz="0" izz="0.001"/>
    </inertial>
    <visual name="right_gripper_2">
      <origin rpy="0 0 0" xyz="0.0127099 0.0021056 -2.25e-05"/>
      <geometry>
        <mesh filename="../meshes/right_gripper_2.dae" scale="1.0 1.0 1.0"/>
      </geometry>
      <material name="EP_up.001"/>
    </visual>
    <collision name="right_gripper_2_collision">
      <origin rpy="0 0 0" xyz="0.0134077 0.0024401 -0.0296613"/>
      <geometry>
        <mesh filename="../meshes/right_gripper_2_collision.dae" scale="1.0 1.0 1.0"/>
      </geometry>
    </collision>
  </link>
  <!-- <link name="right_gripper_link_3_dummy">
          <inertial>
            <origin xyz="0 0 0" rpy="0 0 0"/>
            <mass value="0.001"/>
            <inertia ixx="0.001" ixy="0" ixz="0" iyy="0.001" iyz="0" izz="0.001"/>
          </inertial>
        </link> -->
  <link name="right_gripper_link_4">
    <inertial>
      <origin rpy="0 0 0" xyz="0 0 0"/>
      <mass value="0.001"/>
      <inertia ixx="0.001" ixy="0" ixz="0" iyy="0.001" iyz="0" izz="0.001"/>
    </inertial>
    <visual name="right_gripper_4">
      <origin rpy="0 0 0" xyz="-4.74e-05 -0.0001737 -1.67e-05"/>
      <geometry>
        <mesh filename="../meshes/right_gripper_4.dae" scale="1.0 1.0 1.0"/>
      </geometry>
      <material name="EP_up.001"/>
    </visual>
    <collision name="right_gripper_4_collision">
      <origin rpy="0 0 0" xyz="-6.57e-05 1.16e-05 -0.0296554"/>
      <geometry>
        <mesh filename="../meshes/right_gripper_4_collision.dae" scale="1.0 1.0 1.0"/>
      </geometry>
    </collision>
  </link>
  <link name="right_gripper_link_5">
    <inertial>
      <origin rpy="0 0 0" xyz="0 0 0"/>
      <mass value="0.001"/>
      <inertia ixx="0.001" ixy="0" ixz="0" iyy="0.001" iyz="0" izz="0.001"/>
    </inertial>
    <visual name="right_gripper_5">
      <origin rpy="0 0 0" xyz="-7.26e-05 1.7e-06 -1.83e-05"/>
      <geometry>
        <mesh filename="../meshes/right_gripper_5.dae" scale="1.0 1.0 1.0"/>
      </geometry>
      <material name="EP_up.001"/>
    </visual>
    <collision name="right_gripper_5_collision">
      <origin rpy="0 0 0" xyz="-0.0001606 2.35e-05 8.1e-05"/>
      <geometry>
        <mesh filename="../meshes/right_gripper_5_collision.dae" scale="1.0 1.0 1.0"/>
      </geometry>
    </collision>
  </link>
  <link name="right_gripper_link_6">
    <inertial>
      <origin rpy="0 0 0" xyz="0 0 0"/>
      <mass value="0.001"/>
      <inertia ixx="0.001" ixy="0" ixz="0" iyy="0.001" iyz="0" izz="0.001"/>
    </inertial>
    <visual name="right_gripper_6">
      <origin rpy="0 0 0" xyz="-0.03103 0.0338258 -1.83e-05"/>
      <geometry>
        <mesh filename="../meshes/right_gripper_6.dae" scale="1.0 1.0 1.0"/>
      </geometry>
      <material name="EP_up.001"/>
    </visual>
    <collision name="right_gripper_6_collision">
      <origin rpy="0 0 0" xyz="-0.0156676 0.0173828 6.82e-05"/>
      <geometry>
        <mesh filename="../meshes/right_gripper_6_collision.dae" scale="1.0 1.0 1.0"/>
      </geometry>
    </collision>
  </link>
  <link name="right_gripper_link_7">
    <inertial>
      <origin rpy="0 0 0" xyz="0 0 0"/>
      <mass value="0.001"/>
      <inertia ixx="0.001" ixy="0" ixz="0" iyy="0.001" iyz="0" izz="0.001"/>
    </inertial>
    <visual name="right_gripper_7">
      <origin rpy="0 0 0" xyz="-3.72e-05 9e-07 -1.83e-05"/>
      <geometry>
        <mesh filename="../meshes/right_gripper_7.dae" scale="1.0 1.0 1.0"/>
      </geometry>
      <material name="EP_up.001"/>
    </visual>
    <collision name="right_gripper_7_collision">
      <origin rpy="0 0 0" xyz="-0.0150056 0.0168496 -0.0296388"/>
      <geometry>
        <mesh filename="../meshes/right_gripper_7_collision.dae" scale="1.0 1.0 1.0"/>
      </geometry>
    </collision>
  </link>
  <!-- <link name="right_gripper_link_8_dummy">
          <inertial>
            <origin xyz="0 0 0" rpy="0 0 0"/>
            <mass value="0.001"/>
            <inertia ixx="0.001" ixy="0" ixz="0" iyy="0.001" iyz="0" izz="0.001"/>
          </inertial>
        </link> -->
  <joint name="left_gripper_joint_1" type="revolute">
    <origin rpy="0 0 0" xyz="0.0163032 0.0212032 -0.0399201"/>
    <parent link="gripper_m_link"/>
    <child link="left_gripper_link_1"/>
    <axis xyz="0 0 1.0"/>
    <limit effort="10" lower="-0.4" upper="0" velocity="5"/>
  </joint>
  <joint name="left_gripper_joint_2" type="fixed">
    <origin rpy="0 0 0" xyz="0.0213495 0.0130363 0"/>
    <parent link="left_gripper_link_1"/>
    <child link="left_gripper_link_2"/>
    <axis xyz="0 0 1.0"/>
    <limit effort="1" velocity="1"/>
  </joint>
  <!-- <joint name="left_gripper_joint_3_dummy" type="fixed">
          <origin xyz="0.0136876 -0.0029412 0.0002778" rpy="0 0 0"/>
          <parent link="left_gripper_link_2"/>
          <child link="left_gripper_link_3_dummy"/>
        </joint> -->
  <joint name="left_gripper_joint_4" type="fixed">
    <origin rpy="0 0 0" xyz="0.00485 0.0204148 -5.8e-06"/>
    <parent link="left_gripper_link_2"/>
    <child link="left_gripper_link_4"/>
    <axis xyz="0 0 1.0"/>
    <limit effort="1" velocity="1"/>
  </joint>
  <joint name="left_gripper_joint_6" type="fixed">
    <origin rpy="0 0 0" xyz="0.0051144 -0.0140851 0"/>
    <parent link="left_gripper_link_5"/>
    <child link="left_gripper_link_6"/>
    <axis xyz="0 0 1.0"/>
    <limit effort="1" velocity="1"/>
  </joint>
  <joint name="left_gripper_joint_7" type="fixed">
    <origin rpy="0 0 0" xyz="-0.0148823 -0.0168513 0"/>
    <parent link="left_gripper_link_6"/>
    <child link="left_gripper_link_7"/>
    <axis xyz="0 0 1.0"/>
    <limit effort="1" velocity="1"/>
  </joint>
  <!-- <joint name="left_gripper_joint_8_dummy" type="fixed">
          <origin xyz="-0.014742 -0.0167196 -3.77e-05" rpy="0 0 0"/>
          <parent link="left_gripper_link_7"/>
          <child link="left_gripper_8_link_dummy"/>
        </joint> -->
  <joint name="left_gripper_joint_5" type="fixed">
    <origin rpy="0 0 0" xyz="0.0385916 0.0103143 1.6e-06"/>
    <parent link="left_gripper_link_4"/>
    <child link="left_gripper_link_5"/>
    <axis xyz="0 0 1.0"/>
    <limit effort="1" velocity="1"/>
  </joint>
  <joint name="gripper_joint" type="fixed">
    <origin rpy="0 -0.8 0" xyz="0.0002793 -0.027026 0.0001815"/>
    <parent link="endpoint_bracket_link"/>
    <child link="gripper_link"/>
  </joint>
  <joint name="right_gripper_joint_1" type="revolute">
    <origin rpy="0 0 0" xyz="0.0163034 -0.0209781 -0.0399201"/>
    <parent link="gripper_m_link"/>
    <child link="right_gripper_link_1"/>
    <axis xyz="0 0 1.0"/>
    <limit effort="10" lower="0" upper="0.4" velocity="5"/>
  </joint>
  <joint name="right_gripper_joint_2" type="fixed">
    <origin rpy="0 0 0" xyz="0.0213495 -0.0130363 0"/>
    <parent link="right_gripper_link_1"/>
    <child link="right_gripper_link_2"/>
    <axis xyz="0 0 1.0"/>
    <limit effort="1" velocity="1"/>
  </joint>
  <!-- <joint name="right_gripper_joint_3_dummy" type="fixed">
          <origin xyz="0.013553 0.0025081 0.0002778" rpy="0 0 0"/>
          <parent link="right_gripper_link_2"/>
          <child link="right_gripper_link_3_dummy"/>
        </joint> -->
  <joint name="right_gripper_joint_4" type="fixed">
    <origin rpy="0 0 0" xyz="0.0047151 -0.0208481 -5.8e-06"/>
    <parent link="right_gripper_link_2"/>
    <child link="right_gripper_link_4"/>
    <axis xyz="0 0 1.0"/>
    <limit effort="1" velocity="1"/>
  </joint>
  <joint name="right_gripper_joint_5" type="fixed">
    <origin rpy="0 0 0" xyz="0.0385916 -0.0103143 1.6e-06"/>
    <parent link="right_gripper_link_4"/>
    <child link="right_gripper_link_5"/>
    <axis xyz="0 0 1.0"/>
    <limit effort="1" velocity="1"/>
  </joint>
  <joint name="right_gripper_joint_6" type="fixed">
    <origin rpy="0 0 0" xyz="0.0059278 0.0133069 0"/>
    <parent link="right_gripper_link_5"/>
    <child link="right_gripper_link_6"/>
    <axis xyz="0 0 1.0"/>
    <limit effort="1" velocity="1"/>
  </joint>
  <joint name="right_gripper_joint_7" type="fixed">
    <origin rpy="0 0 0" xyz="-0.0156955 0.0176295 0"/>
    <parent link="right_gripper_link_6"/>
    <child link="right_gripper_link_7"/>
    <axis xyz="0 0 1.0"/>
    <limit effort="1" velocity="1"/>
  </joint>
  <joint name="gripper_joint_t" type="fixed">
    <origin rpy="0 0 0" xyz="0.124 0 -0.039"/>
    <parent link="gripper_link"/>
    <child link="gripper_t_link"/>
  </joint>
  <!-- <transmission name="${tf_prefix}gripper_m_joint">
        <type>transmission_interface/SimpleTransmission</type>
        <joint name="${tf_prefix}gripper_m_joint">
            <hardwareInterface>hardware_interface/EffortJointInterface</hardwareInterface>
        </joint>
        <actuator name="$${tf_prefix}gripper_m_joint">
            <hardwareInterface>hardware_interface/EffortJointInterface</hardwareInterface>
            <mechanicalReduction>1</mechanicalReduction>
        </actuator>
    </transmission> -->
  <!-- <transmission name="left_gripper_joint_1">
    <type>transmission_interface/SimpleTransmission</type>
    <actuator name="${tf_prefix}left_gripper_joint_1">
      <hardwareInterface>hardware_interface/EffortJointInterface</hardwareInterface>
      <mechanicalReduction>1</mechanicalReduction>
    </actuator>
    <joint name="left_gripper_joint_1">
      <hardwareInterface>hardware_interface/EffortJointInterface</hardwareInterface>
    </joint>
  </transmission> -->
  <!-- <transmission name="${tf_prefix}left_gripper_joint_2">
        <type>transmission_interface/SimpleTransmission</type>
        <actuator name="$${tf_prefix}left_gripper_joint_2">
            <mechanicalReduction>1</mechanicalReduction>
        </actuator>
        <joint name="${tf_prefix}left_gripper_joint_2">
            <hardwareInterface>hardware_interface/VelocityJointInterface</hardwareInterface>
        </joint>
    </transmission>
    <transmission name="${tf_prefix}left_gripper_joint_4">
        <type>transmission_interface/SimpleTransmission</type>
        <actuator name="$${tf_prefix}left_gripper_joint_4">
            <mechanicalReduction>1</mechanicalReduction>
        </actuator>
        <joint name="${tf_prefix}left_gripper_joint_4">
            <hardwareInterface>hardware_interface/VelocityJointInterface</hardwareInterface>
        </joint>
    </transmission>
    <transmission name="${tf_prefix}left_gripper_joint_5">
        <type>transmission_interface/SimpleTransmission</type>
        <actuator name="$${tf_prefix}left_gripper_joint_5">
            <mechanicalReduction>1</mechanicalReduction>
        </actuator>
        <joint name="${tf_prefix}left_gripper_joint_5">
            <hardwareInterface>hardware_interface/VelocityJointInterface</hardwareInterface>
        </joint>
    </transmission>
    <transmission name="${tf_prefix}left_gripper_joint_6">
        <type>transmission_interface/SimpleTransmission</type>
        <actuator name="$${tf_prefix}left_gripper_joint_6">
            <mechanicalReduction>1</mechanicalReduction>
        </actuator>
        <joint name="${tf_prefix}left_gripper_joint_6">
            <hardwareInterface>hardware_interface/VelocityJointInterface</hardwareInterface>
        </joint>
    </transmission>
    <transmission name="${tf_prefix}left_gripper_joint_7">
        <type>transmission_interface/SimpleTransmission</type>
        <actuator name="$${tf_prefix}left_gripper_joint_7">
            <mechanicalReduction>1</mechanicalReduction>
        </actuator>
        <joint name="${tf_prefix}left_gripper_joint_7">
            <hardwareInterface>hardware_interface/VelocityJointInterface</hardwareInterface>
        </joint>
    </transmission> -->
  <!-- <transmission name="right_gripper_joint_1">
    <type>transmission_interface/SimpleTransmission</type>
    <actuator name="${tf_prefix}right_gripper_joint_1">
      <hardwareInterface>hardware_interface/EffortJointInterface</hardwareInterface>
      <mechanicalReduction>1</mechanicalReduction>
    </actuator>
    <joint name="right_gripper_joint_1">
      <hardwareInterface>hardware_interface/EffortJointInterface</hardwareInterface>
    </joint>
  </transmission> -->
  <!-- <transmission name="${tf_prefix}right_gripper_joint_2">
        <type>transmission_interface/SimpleTransmission</type>
        <actuator name="$${tf_prefix}right_gripper_joint_2">
            <mechanicalReduction>1</mechanicalReduction>
        </actuator>
        <joint name="${tf_prefix}right_gripper_joint_2">
            <hardwareInterface>hardware_interface/VelocityJointInterface</hardwareInterface>
        </joint>
    </transmission>
    <transmission name="${tf_prefix}right_gripper_joint_4">
        <type>transmission_interface/SimpleTransmission</type>
        <actuator name="$${tf_prefix}right_gripper_joint_4">
            <mechanicalReduction>1</mechanicalReduction>
        </actuator>
        <joint name="${tf_prefix}right_gripper_joint_4">
            <hardwareInterface>hardware_interface/VelocityJointInterface</hardwareInterface>
        </joint>
    </transmission>
    <transmission name="${tf_prefix}right_gripper_joint_5">
        <type>transmission_interface/SimpleTransmission</type>
        <actuator name="$${tf_prefix}right_gripper_joint_5">
            <mechanicalReduction>1</mechanicalReduction>
        </actuator>
        <joint name="${tf_prefix}right_gripper_joint_5">
            <hardwareInterface>hardware_interface/VelocityJointInterface</hardwareInterface>
        </joint>
    </transmission>
    <transmission name="${tf_prefix}right_gripper_joint_6">
        <type>transmission_interface/SimpleTransmission</type>
        <actuator name="$${tf_prefix}right_gripper_joint_6">
            <mechanicalReduction>1</mechanicalReduction>
        </actuator>
        <joint name="${tf_prefix}right_gripper_joint_6">
            <hardwareInterface>hardware_interface/VelocityJointInterface</hardwareInterface>
        </joint>
    </transmission>
    <transmission name="${tf_prefix}right_gripper_joint_7">
        <type>transmission_interface/SimpleTransmission</type>
        <actuator name="$${tf_prefix}right_gripper_joint_7">
            <mechanicalReduction>1</mechanicalReduction>
        </actuator>
        <joint name="${tf_prefix}right_gripper_joint_7">
            <hardwareInterface>hardware_interface/VelocityJointInterface</hardwareInterface>
        </joint>
    </transmission> -->
</robot>
